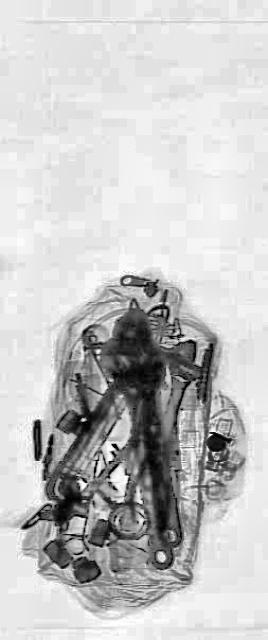Wrench: (150, 320, 206, 462)
